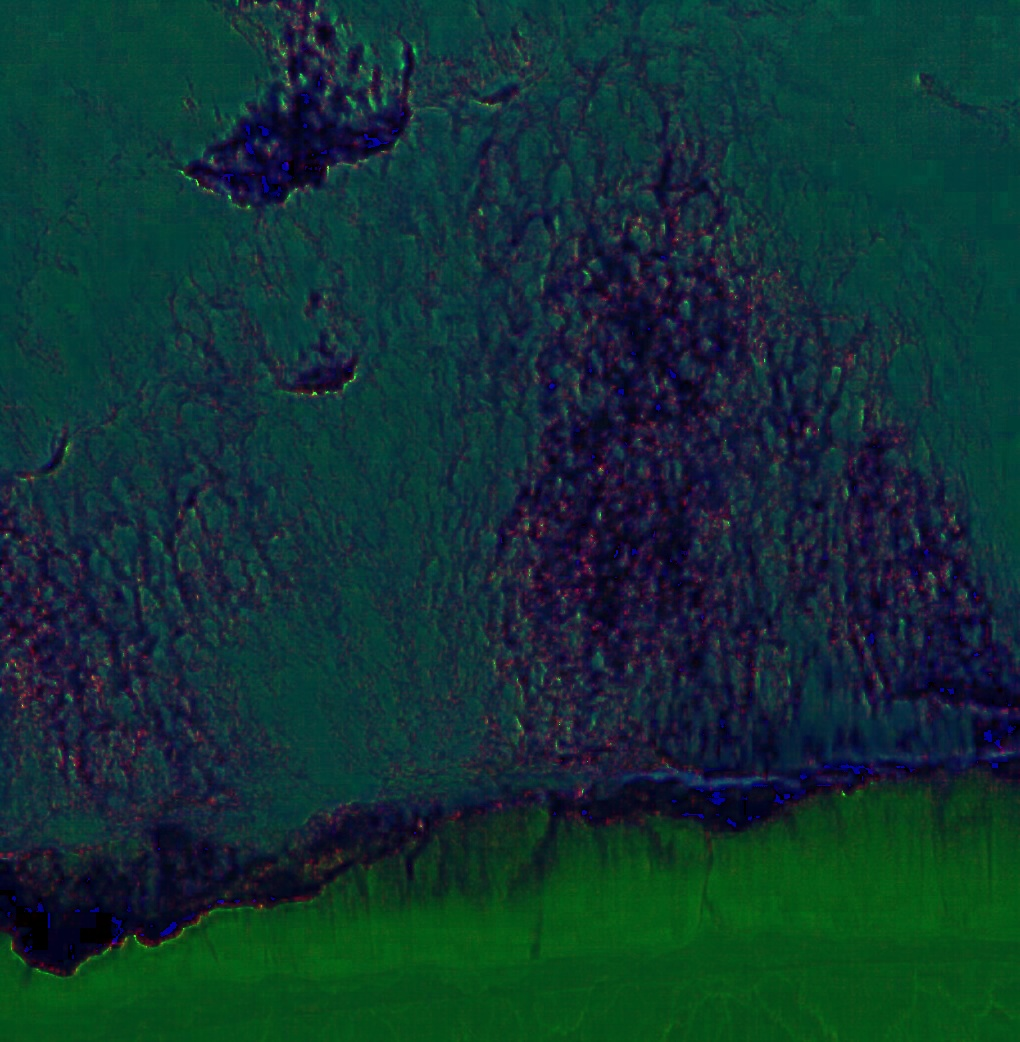rip_current: (145, 125, 635, 825)
